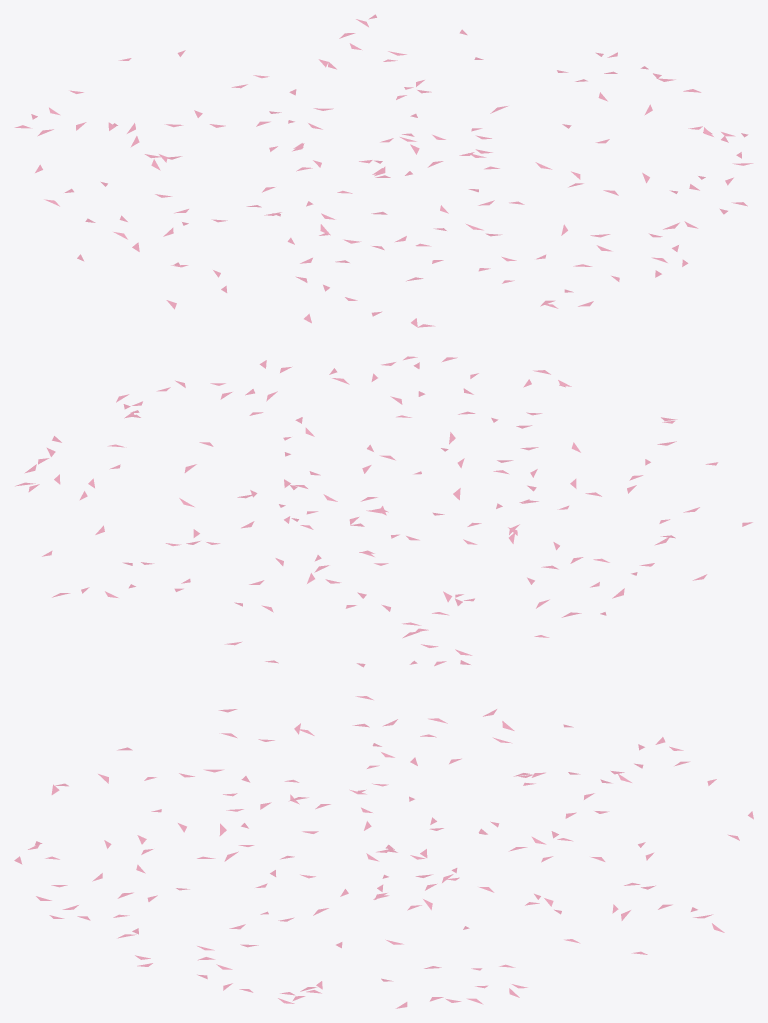
File: petals.far.glb
3 views of the same model, one above another, from view 1: azimuth 30°, elevation 25°; view 2: azimuth 150°, elevation 25°; view 3: azimuth 270°, elevation 25° (orthographic).
Parts seen in each view (by area): view 1: petals; view 2: petals; view 3: petals.
Boxes of the visible parts, x1,y1,x2,y2 form: petals: [14, 14, 753, 327]; petals: [15, 356, 752, 667]; petals: [14, 696, 753, 1008].
Size of the model in its own units: 4.9 by 0.0603 by 4.92.
